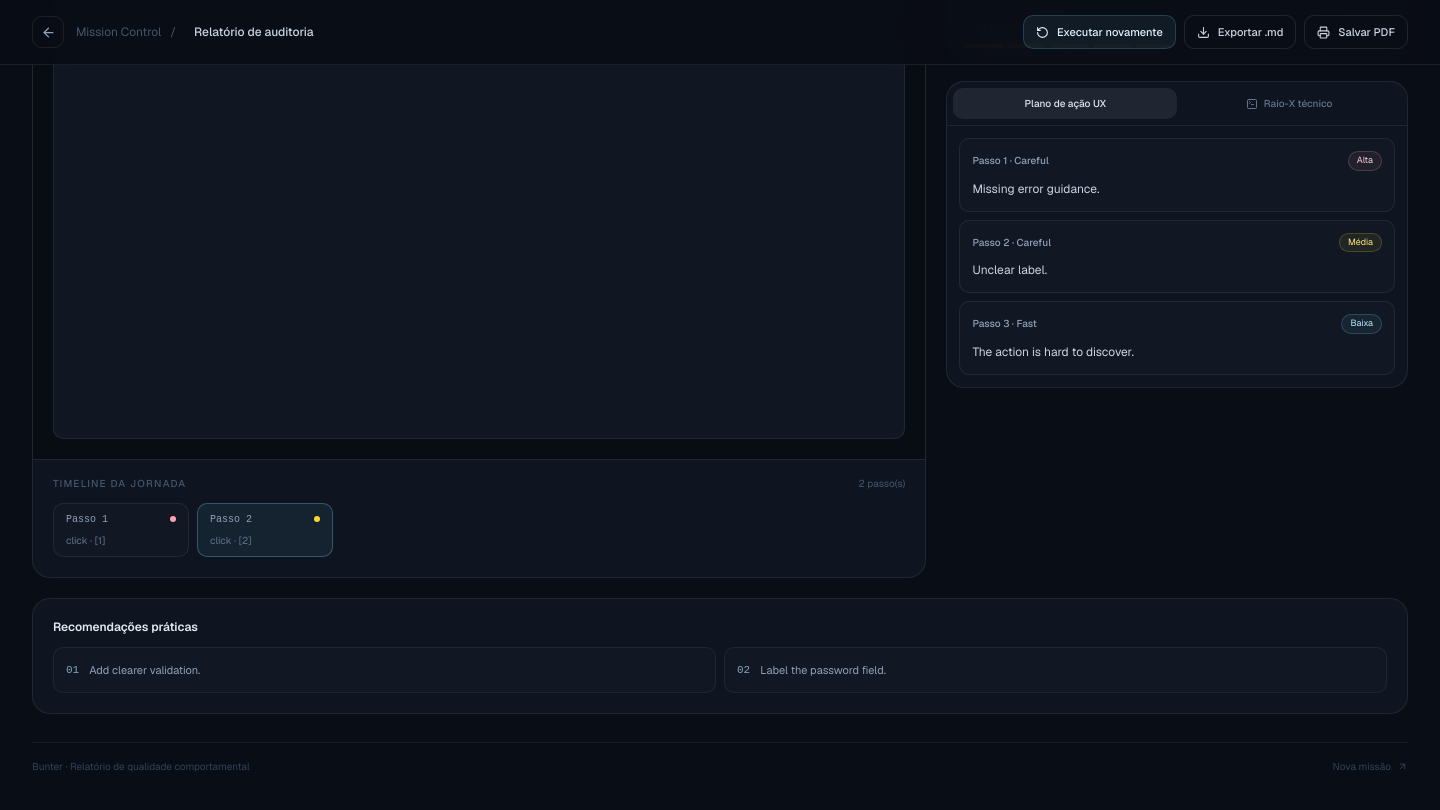
RunReport › renders a blocked Pro report, filters persona steps, switches panels and exports
Later steps or results of the test are not shown.
(page scrolled)
Click the button "Passo 1 click · [1]": (121, 530) [53,503,189,557]
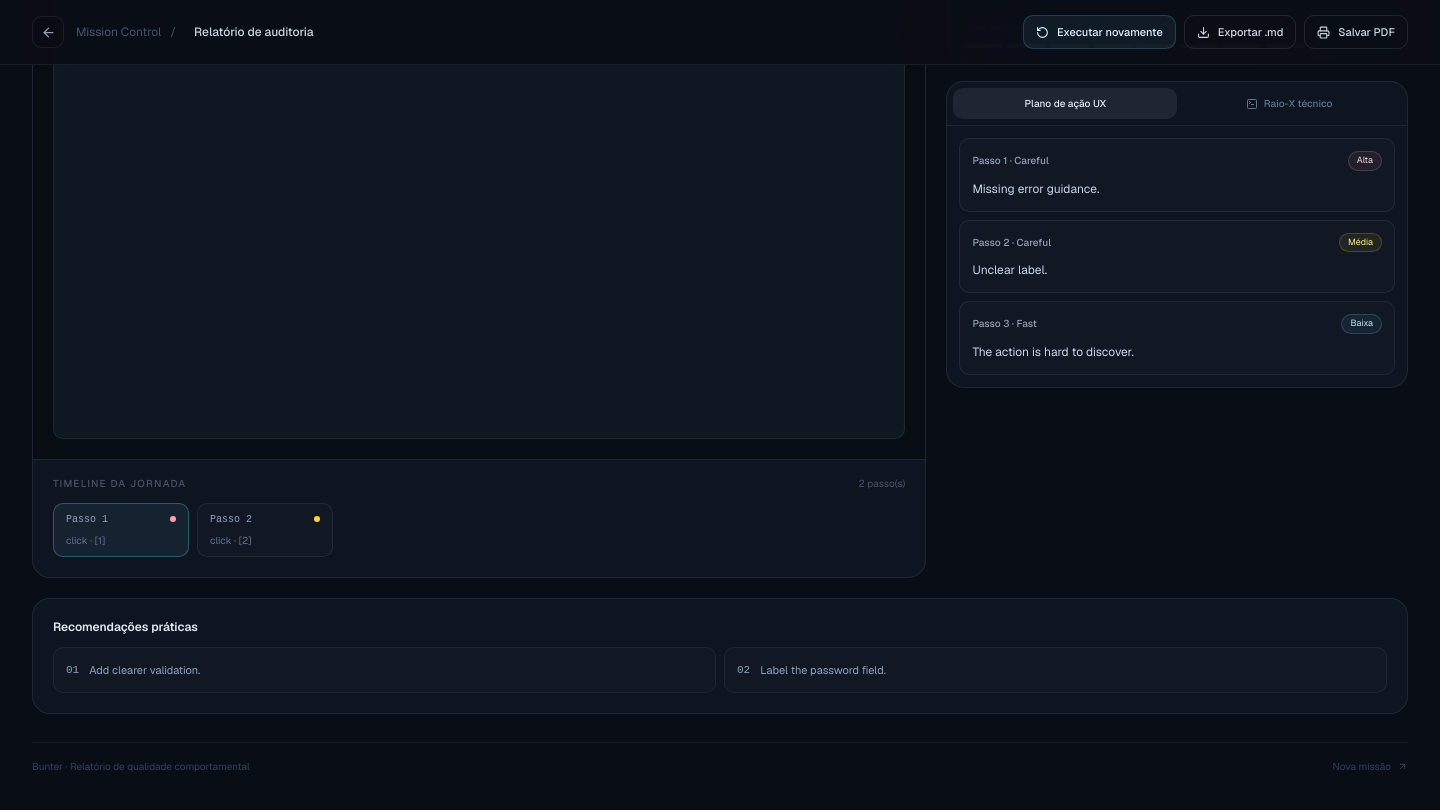
Click the button "Passo 2 click · [2]": (265, 530) [197,503,333,557]
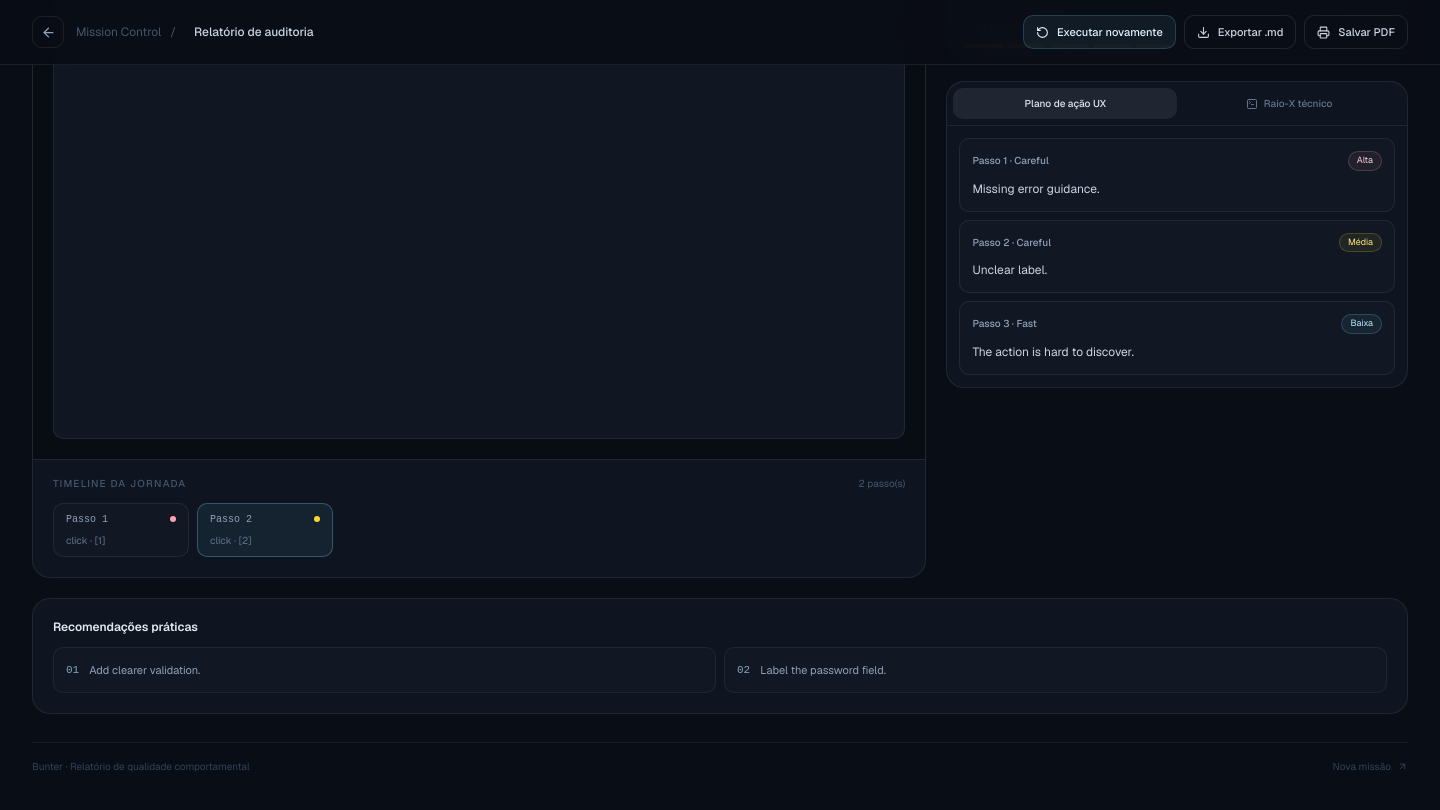
expect the text "01" is shown: met, box [66,660,79,680]
expect the text "02" is shown: met, box [737,660,750,680]
Click the button "Raio-X técnico": (1289, 104) [1177,88,1401,119]
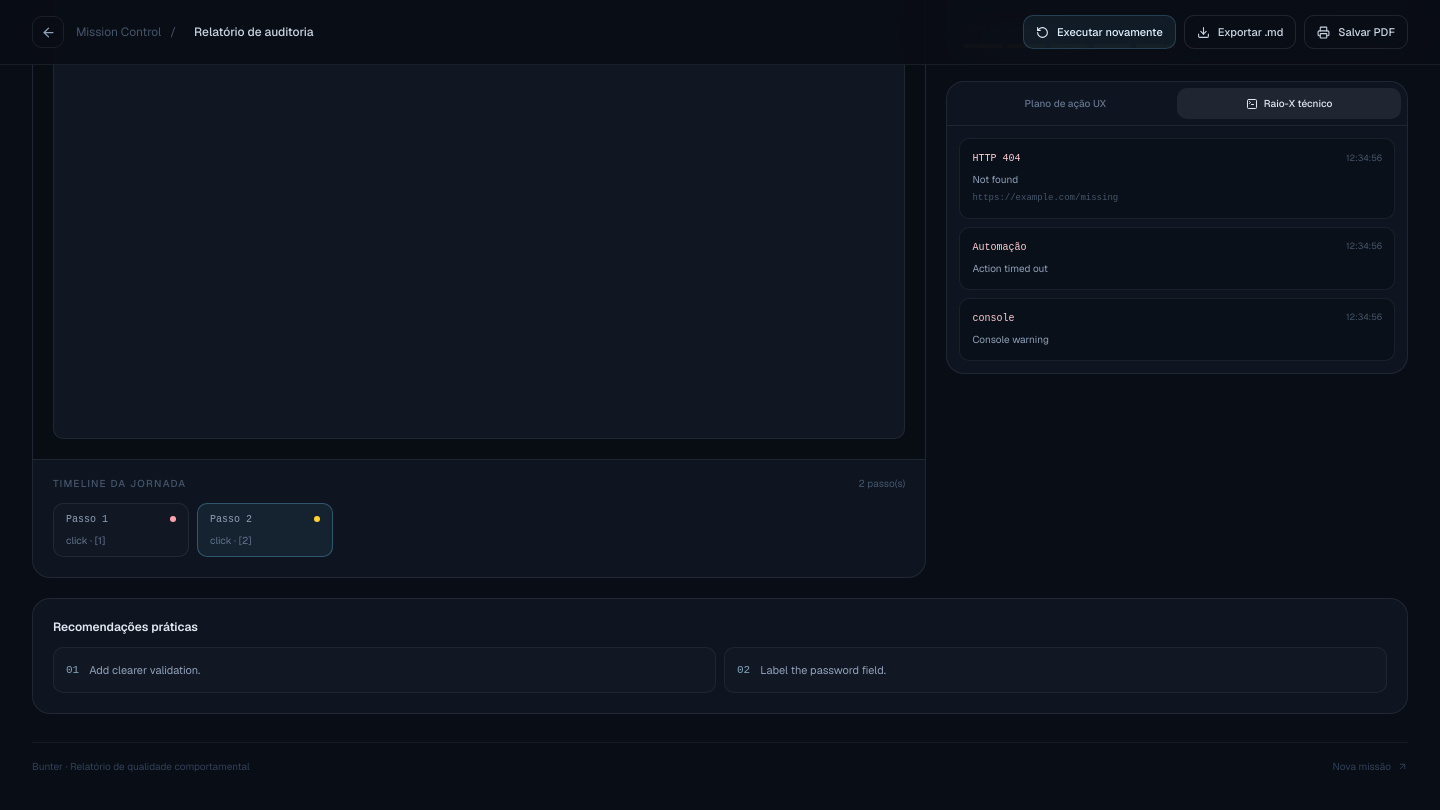
expect the text "HTTP 404" is shown: met, box [972,151,1020,166]
expect the text "Automação" is shown: met, box [972,240,1026,254]
expect the text "Console warning" is shown: met, box [972,332,1049,346]
